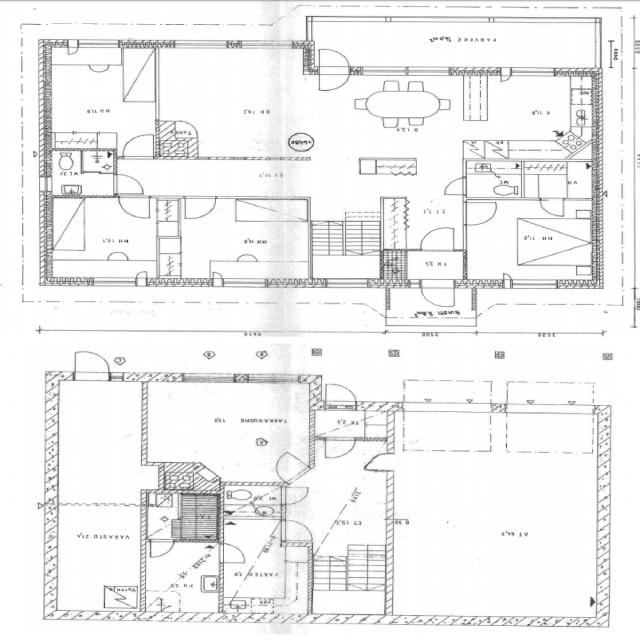door: (266, 453, 310, 485), (74, 346, 110, 382), (324, 378, 356, 411), (422, 280, 455, 312), (320, 44, 350, 74), (320, 66, 350, 96), (421, 225, 454, 251), (462, 202, 499, 225), (119, 197, 150, 222), (325, 436, 355, 461), (123, 135, 154, 159), (186, 197, 216, 221), (281, 521, 313, 540), (362, 453, 395, 471), (112, 175, 143, 194), (220, 544, 250, 563), (540, 197, 565, 218), (437, 177, 466, 194), (281, 488, 309, 504), (150, 539, 173, 558)
